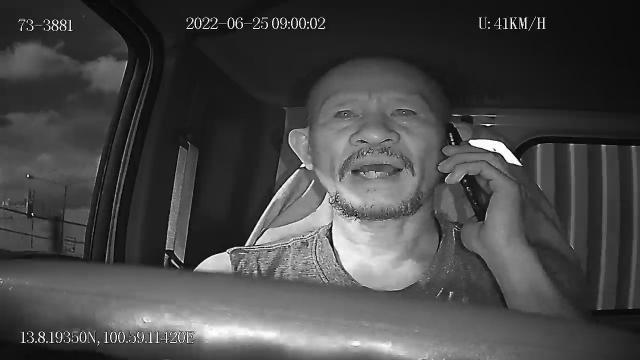PhoneUse: (442, 119, 486, 225)
SafeDriving: (383, 97, 425, 125), (326, 99, 366, 128)
